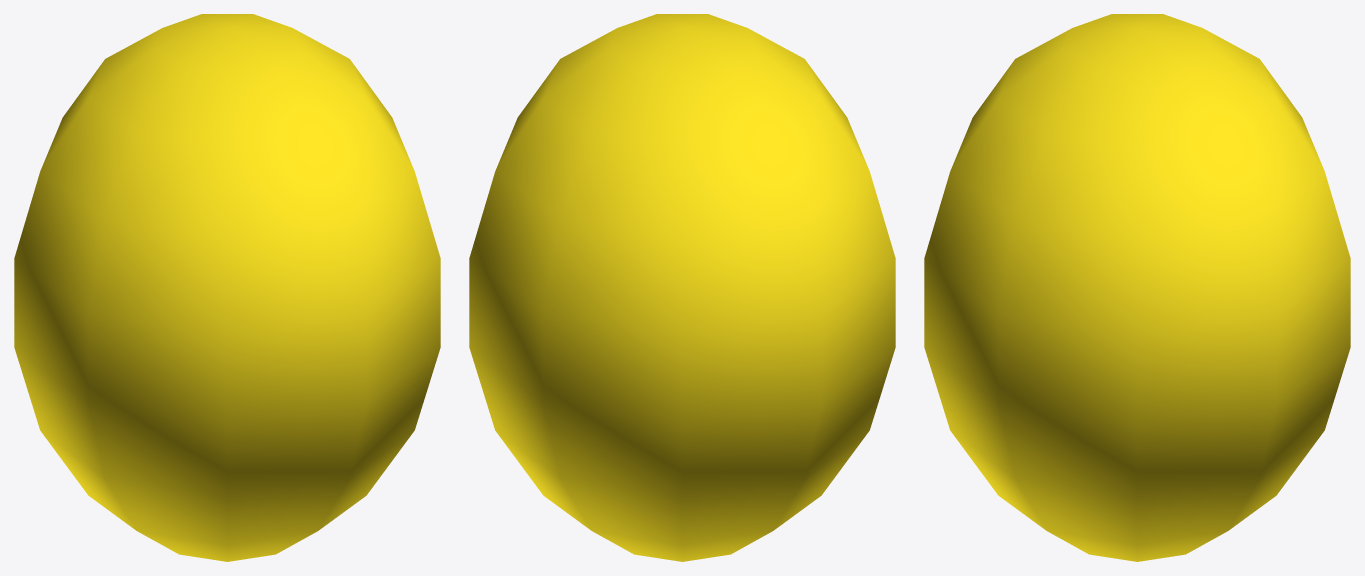
File: jolteon_stage1.obj
3 renders of one model, left to right at view 1: azimuth 30°, elevation 25°; view 2: azimuth 150°, elevation 25°; view 3: azimuth 270°, elevation 25°, orthographic.
Bounding box in the file's own units: 1.24 × 1.69 × 1.26.
